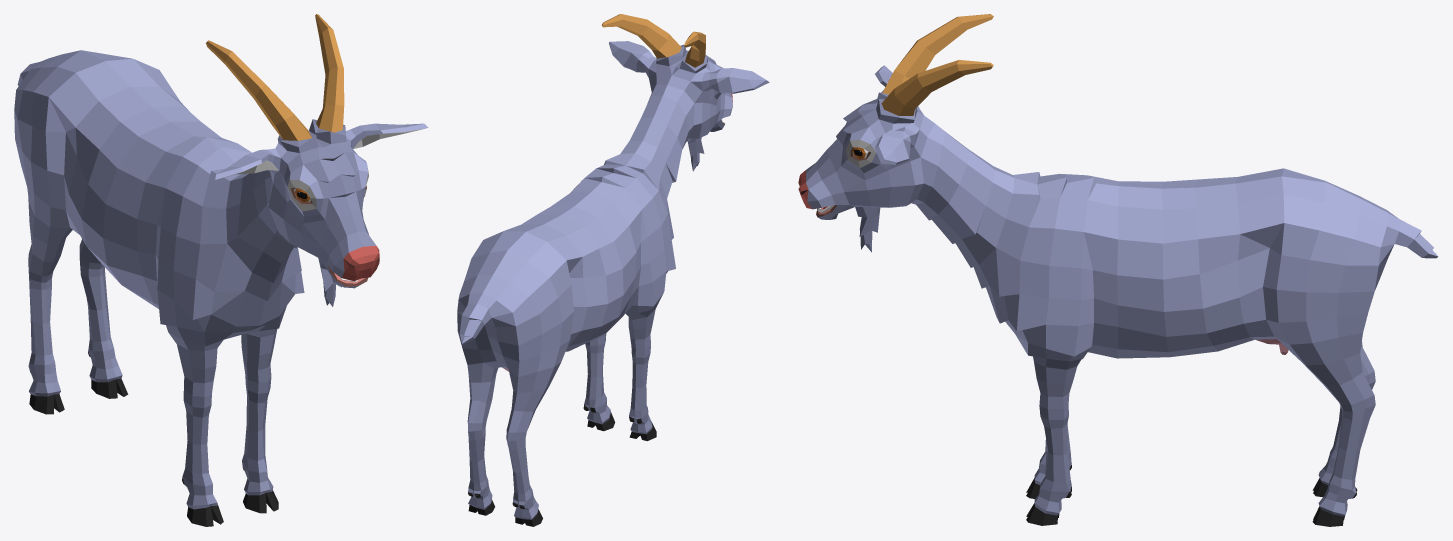
Rendered from LowPoly_Goat_Fem_8.obj.
The picture shows the model from 3 angles, left to right: view 1: azimuth 30°, elevation 25°; view 2: azimuth 150°, elevation 25°; view 3: azimuth 270°, elevation 25°; orthographic projection. The views are drawn at different scales.
Visible parts, largest first — view 1: Goat_Fem_8_Cube.007; view 2: Goat_Fem_8_Cube.007; view 3: Goat_Fem_8_Cube.007.
Part boxes in pixels (x1,y1,x2,y2): Goat_Fem_8_Cube.007: (14, 14, 428, 526); Goat_Fem_8_Cube.007: (457, 14, 769, 526); Goat_Fem_8_Cube.007: (798, 14, 1438, 526).
Bounding box in the file's own units: 0.421 × 0.9535 × 1.18.
